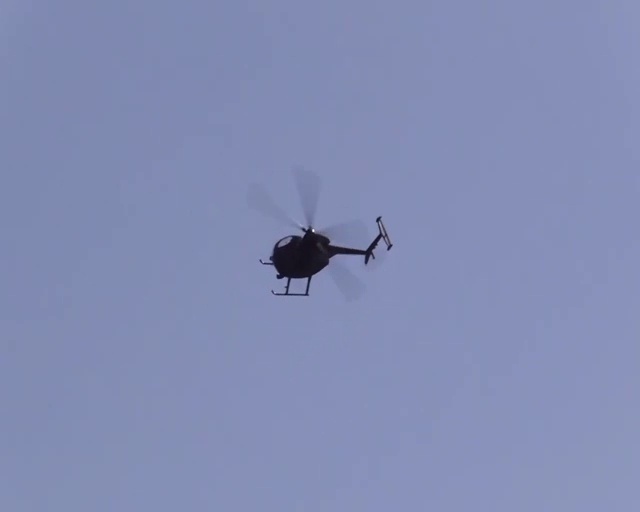HELICOPTER: (245, 167, 393, 297)
